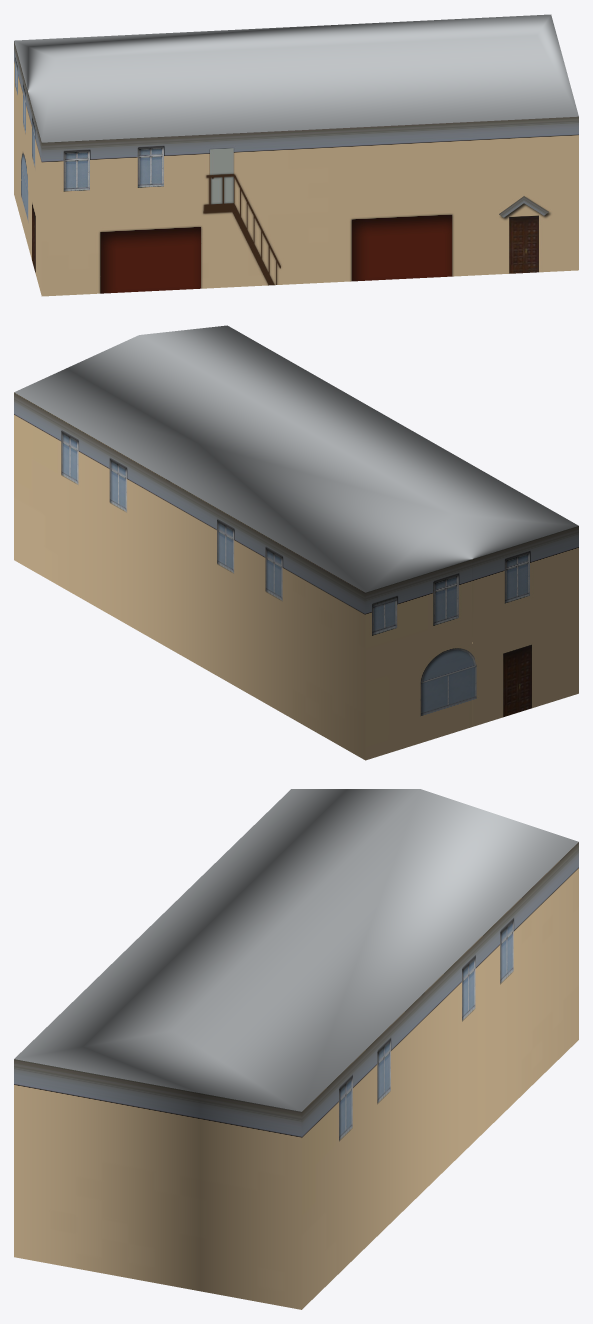
File: lp-building23.fbx
3 views of the same model, one above another, from view 1: azimuth 30°, elevation 25°; view 2: azimuth 150°, elevation 25°; view 3: azimuth 270°, elevation 25° (orthographic). The views are drawn at different scales.
Visible parts, largest first — view 1: 01houses.009; view 2: 01houses.009; view 3: 01houses.009.
Part boxes in pixels (<box>): 01houses.009: <box>14,14,578,296</box>; 01houses.009: <box>14,325,578,760</box>; 01houses.009: <box>14,789,578,1309</box>.
Size of the model in its own units: 826 by 285 by 611.
1 material, 1 textured.
